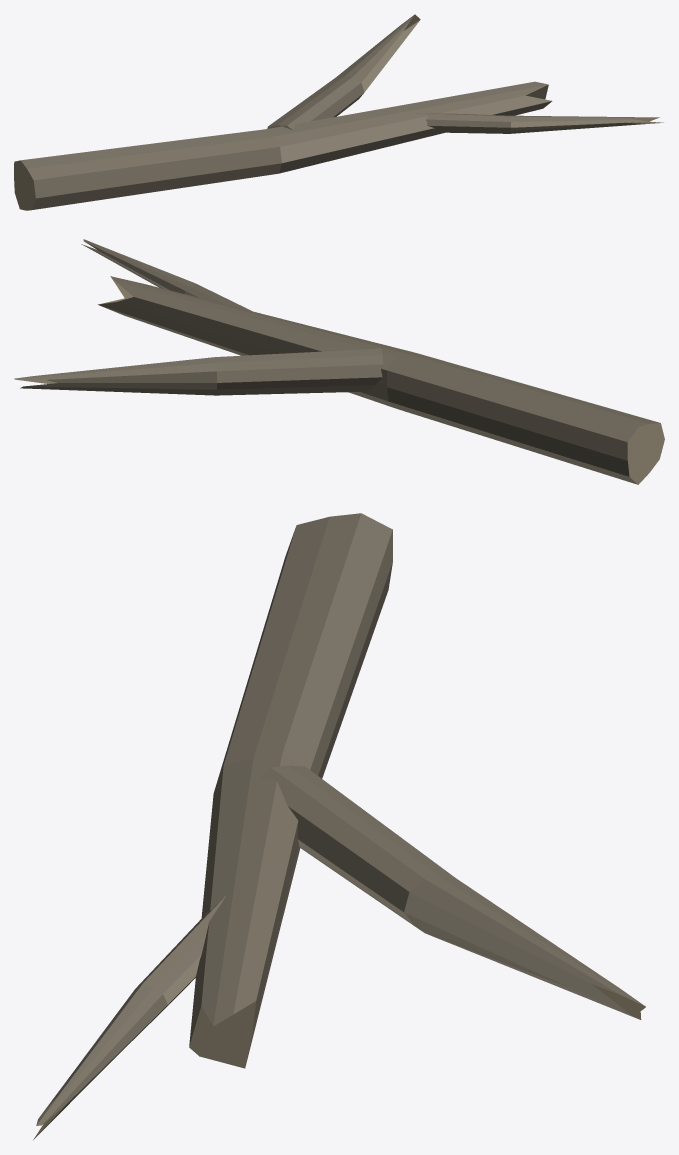
Rendered from ground-prop-fallen-limb-high.glb.
3 views of the same model, one above another, from view 1: azimuth 30°, elevation 25°; view 2: azimuth 150°, elevation 25°; view 3: azimuth 270°, elevation 25° (orthographic). The views are drawn at different scales.
Parts seen in each view (by area): view 1: ground-prop-fallen-limb-high / surface; view 2: ground-prop-fallen-limb-high / surface; view 3: ground-prop-fallen-limb-high / surface.
Part boxes in pixels (x1,y1,x2,y2): ground-prop-fallen-limb-high / surface: (14, 14, 663, 210); ground-prop-fallen-limb-high / surface: (14, 239, 664, 484); ground-prop-fallen-limb-high / surface: (33, 513, 645, 1139).
Size of the model in its own units: 2.41 by 0.2191 by 1.13.
